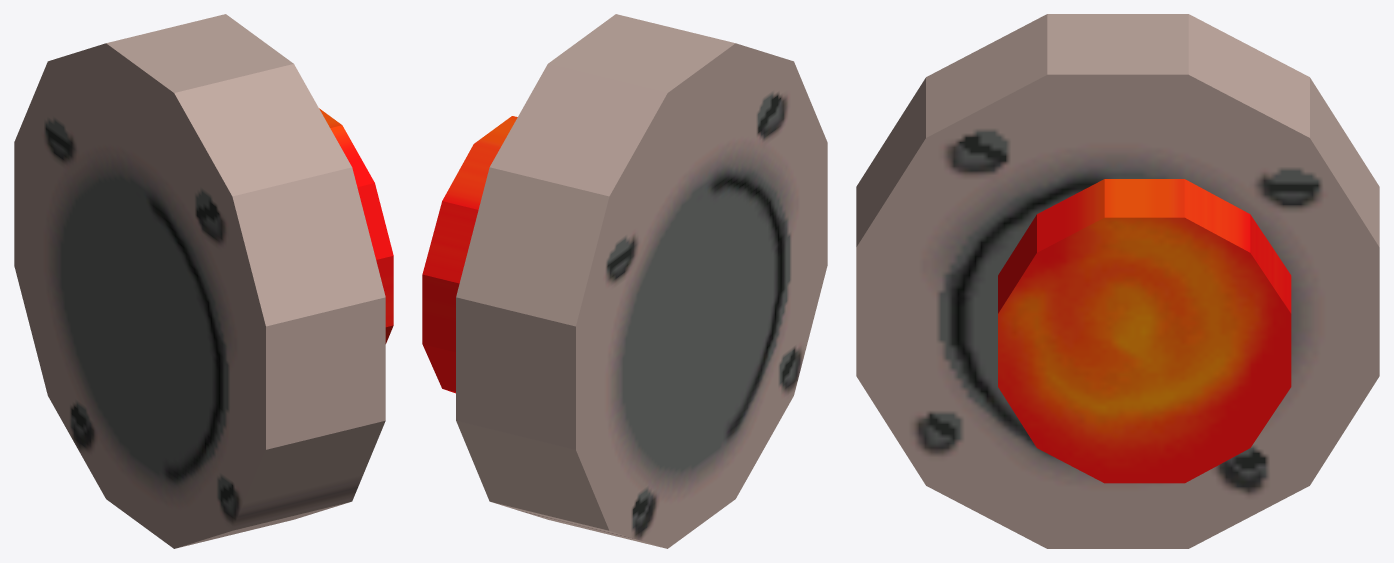
Rendered from Switch.glb.
3 views of the same model, side by side, from view 1: azimuth 30°, elevation 25°; view 2: azimuth 150°, elevation 25°; view 3: azimuth 270°, elevation 25° (orthographic). The views are drawn at different scales.
Parts seen in each view (by area): view 1: Switch; view 2: Switch; view 3: Switch.
Boxes of the visible parts, x1,y1,x2,y2 form: Switch: (14, 14, 393, 548); Switch: (422, 14, 827, 548); Switch: (856, 14, 1379, 548).
Size of the model in its own units: 6.14 by 13.66 by 13.67.
1 material, 1 textured.
